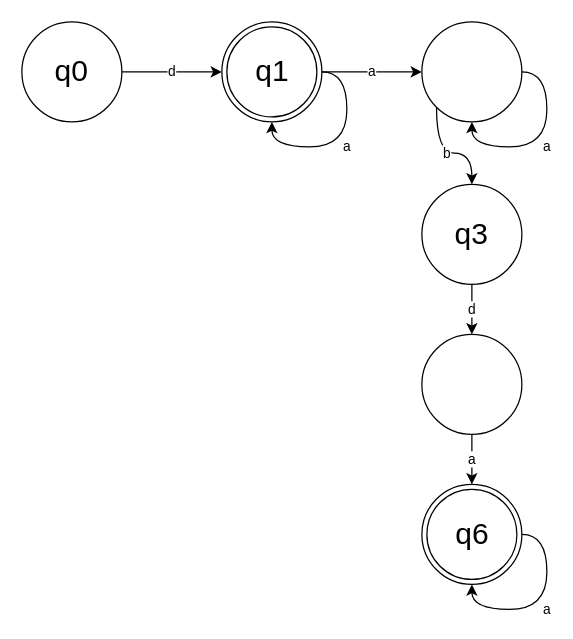
The diagram is 573 pixels wide and 639 high, and some of its shapes have lost their labels. The shapes that lost their labels are listed below. From the top down, each one's centre as x and y in pixels, then its label:
At [471,71]: "q2".
At [471,383]: "q4".
